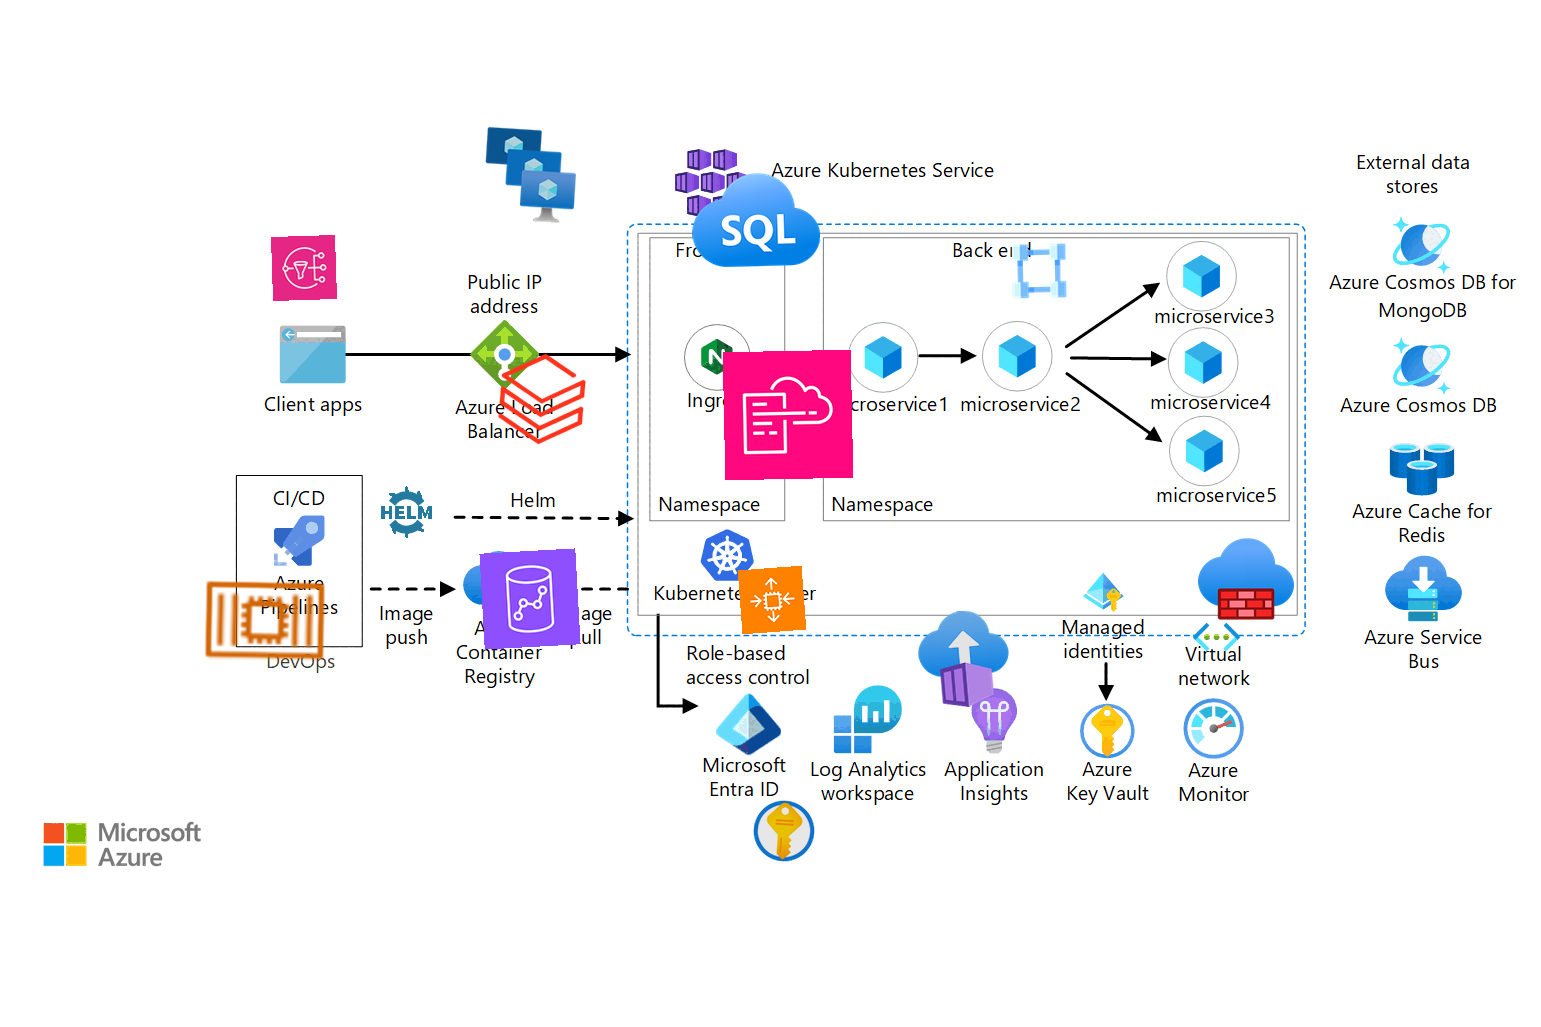aws_amazon_ec2_auto_scaling: (737, 565, 807, 635)
aws_amazon_redshift: (479, 548, 581, 650)
aws_amazon_simple_notification_service: (272, 235, 337, 301)
aws_cloudformation: (722, 348, 854, 481)
aws_elastic_container_service_container_2: (199, 554, 331, 685)
azure_container_instances: (912, 607, 1016, 711)
azure_databricks: (490, 347, 593, 450)
azure_firewalls: (1197, 530, 1295, 628)
azure_key_vaults: (750, 797, 818, 865)
azure_sql: (690, 156, 821, 288)
azure_vm_scale_sets: (478, 121, 580, 224)
gcp_virtual_private_cloud: (1006, 238, 1072, 304)
